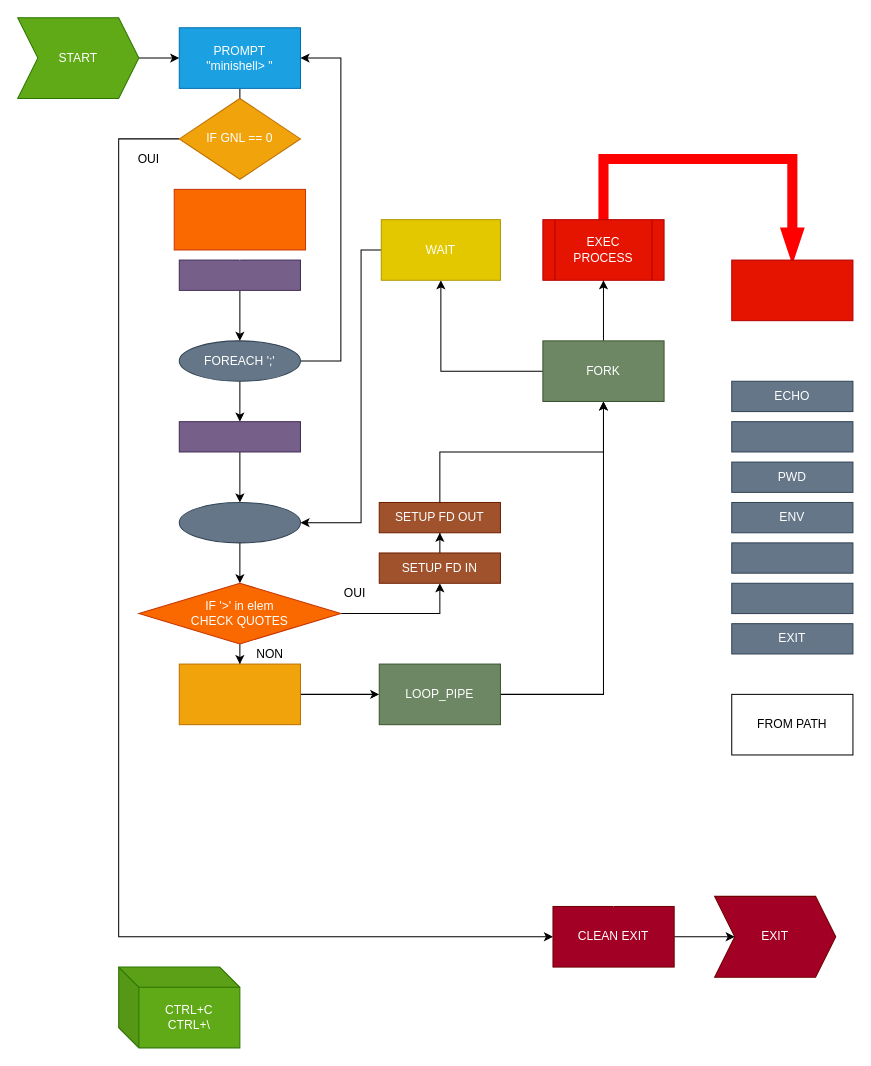
Some shapes in this 871 by 1066 pixel diagram are drawn without their labels. The shapes that lost their labels are listed below. From the top down, each one's centre as x and y in pixels, then its label:
[239,219]: REPLACE VARIABLE "$"
[239,274]: SPLIT ';'
[792,290]: SELECT EXECUTABLE
[239,436]: SPLIT '|'
[792,436]: CD
[239,522]: FOREACH '|'
[792,557]: EXPORT
[792,598]: UNSET
[239,694]: GROUPER LES PIPES
